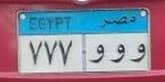7: (42, 38, 58, 66), (58, 39, 73, 68), (27, 40, 42, 66)
waw: (108, 41, 126, 66), (86, 44, 106, 66), (129, 42, 148, 65)
